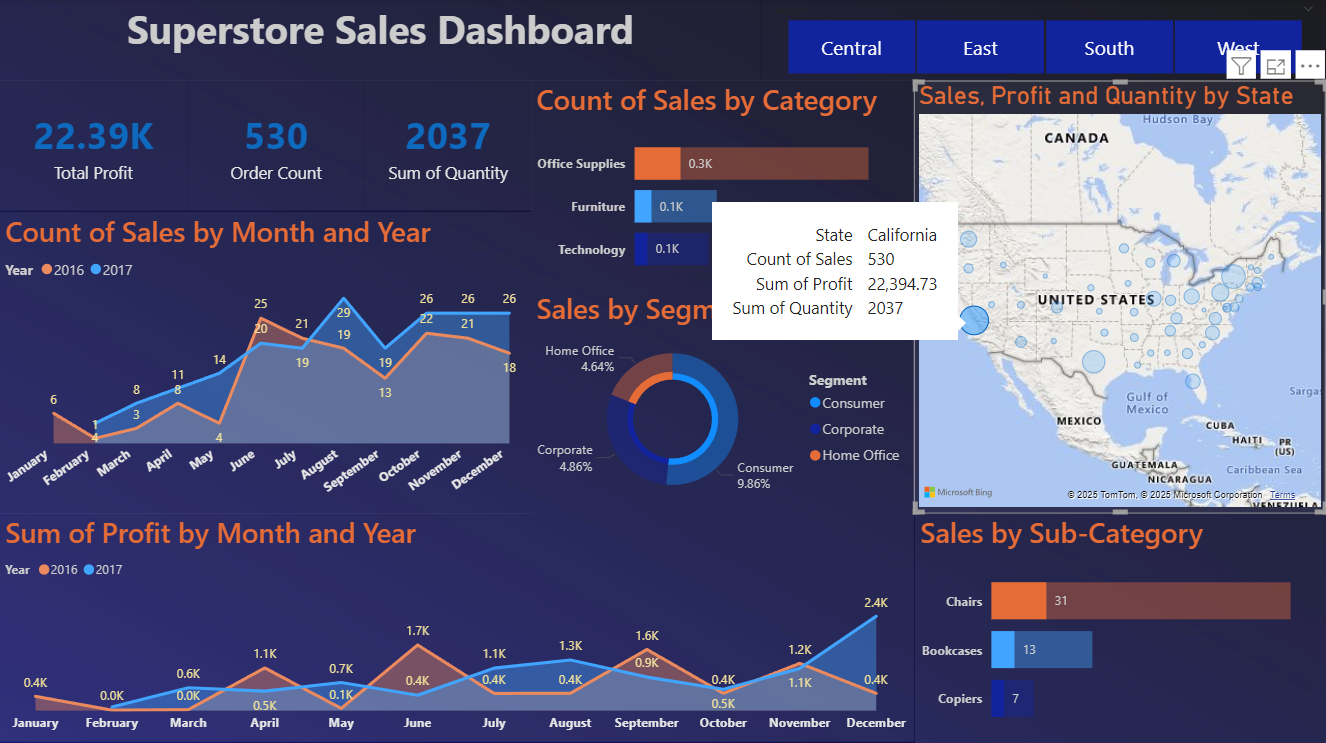

The page's visual inventory and layout, read from the dashboard file:
{"tool":"powerbi","page":{"name":"Page 1","canvas":[1280,720],"ordinal":0},"visuals":[{"type":"clusteredBarChart","fields":{"Category":["Superstore.Category"],"Y":["CountNonNull(Superstore.Sales)"]},"box":[513.2,79.6,369.1,201.7],"z":0},{"type":"clusteredBarChart","title":"Sales by Sub-Category","fields":{"Y":["CountNonNull(Superstore.Sales)"],"Category":["Superstore.Sub-Category"]},"box":[882.9,497.1,397.1,222.9],"z":1000},{"type":"areaChart","fields":{"Category":["Superstore.Ship Date.Variation.Date Hierarchy.Month","Superstore.Ship Date.Variation.Date Hierarchy.Day"],"Y":["CountNonNull(Superstore.Sales)"],"Series":["Superstore.Order Date.Variation.Date Hierarchy.Year"]},"box":[0,205.7,512.9,291.4],"z":2000},{"type":"areaChart","fields":{"Category":["Superstore.Ship Date.Variation.Date Hierarchy.Month","Superstore.Ship Date.Variation.Date Hierarchy.Day"],"Series":["Superstore.Order Date.Variation.Date Hierarchy.Year"],"Y":["Sum(Superstore.Profit)"]},"box":[0,496.7,882.3,220.9],"z":3000},{"type":"map","title":"Sales, Profit and Quantity by State","fields":{"Category":["Superstore.State"],"Size":["CountNonNull(Superstore.Sales)"]},"box":[881.7,80,398.3,416.7],"z":4000},{"type":"donutChart","title":"Sales by Segment","fields":{"Category":["Superstore.Segment"],"Y":["CountNonNull(Superstore.Sales)"]},"box":[512.9,281.4,370,215.7],"z":5000},{"type":"slicer","title":"Region","fields":{"Values":["Superstore.Region"]},"box":[734.3,0,545.7,80],"z":6000},{"type":"textbox","box":[0,0,734.3,80],"z":7000},{"type":"card","fields":{"Values":["Superstore.Order Count"]},"box":[181.4,80,171.4,125.7],"z":8000},{"type":"card","fields":{"Values":["Superstore.Total Profit"]},"box":[0,80,180.8,125.8],"z":9000},{"type":"card","fields":{"Values":["Sum(Superstore.Quantity)"]},"box":[352.5,80,160.8,125.8],"z":10000}]}

Visuals, with their boxes in screenshot pixels (x1, y1, x2, y2), scaled from the page's 1280x720 canvas onto the 1326x743 screenshot:
clusteredBarChart - Superstore.Category x CountNonNull(Superstore.Sales): BBox(532, 82, 914, 290)
"Sales by Sub-Category" clusteredBarChart: BBox(915, 513, 1325, 742)
areaChart - Superstore.Ship Date.Variation.Date Hierarchy.Month x Superstore.Ship Date.Variation.Date Hierarchy.Day: BBox(0, 212, 531, 513)
areaChart - Superstore.Ship Date.Variation.Date Hierarchy.Month x Superstore.Ship Date.Variation.Date Hierarchy.Day: BBox(0, 513, 914, 741)
"Sales, Profit and Quantity by State" map: BBox(913, 83, 1325, 513)
"Sales by Segment" donutChart: BBox(531, 290, 915, 513)
"Region" slicer: BBox(761, 0, 1325, 83)
textbox: BBox(0, 0, 761, 83)
card - Superstore.Order Count: BBox(188, 83, 365, 212)
card - Superstore.Total Profit: BBox(0, 83, 187, 212)
card - Sum(Superstore.Quantity): BBox(365, 83, 532, 212)
